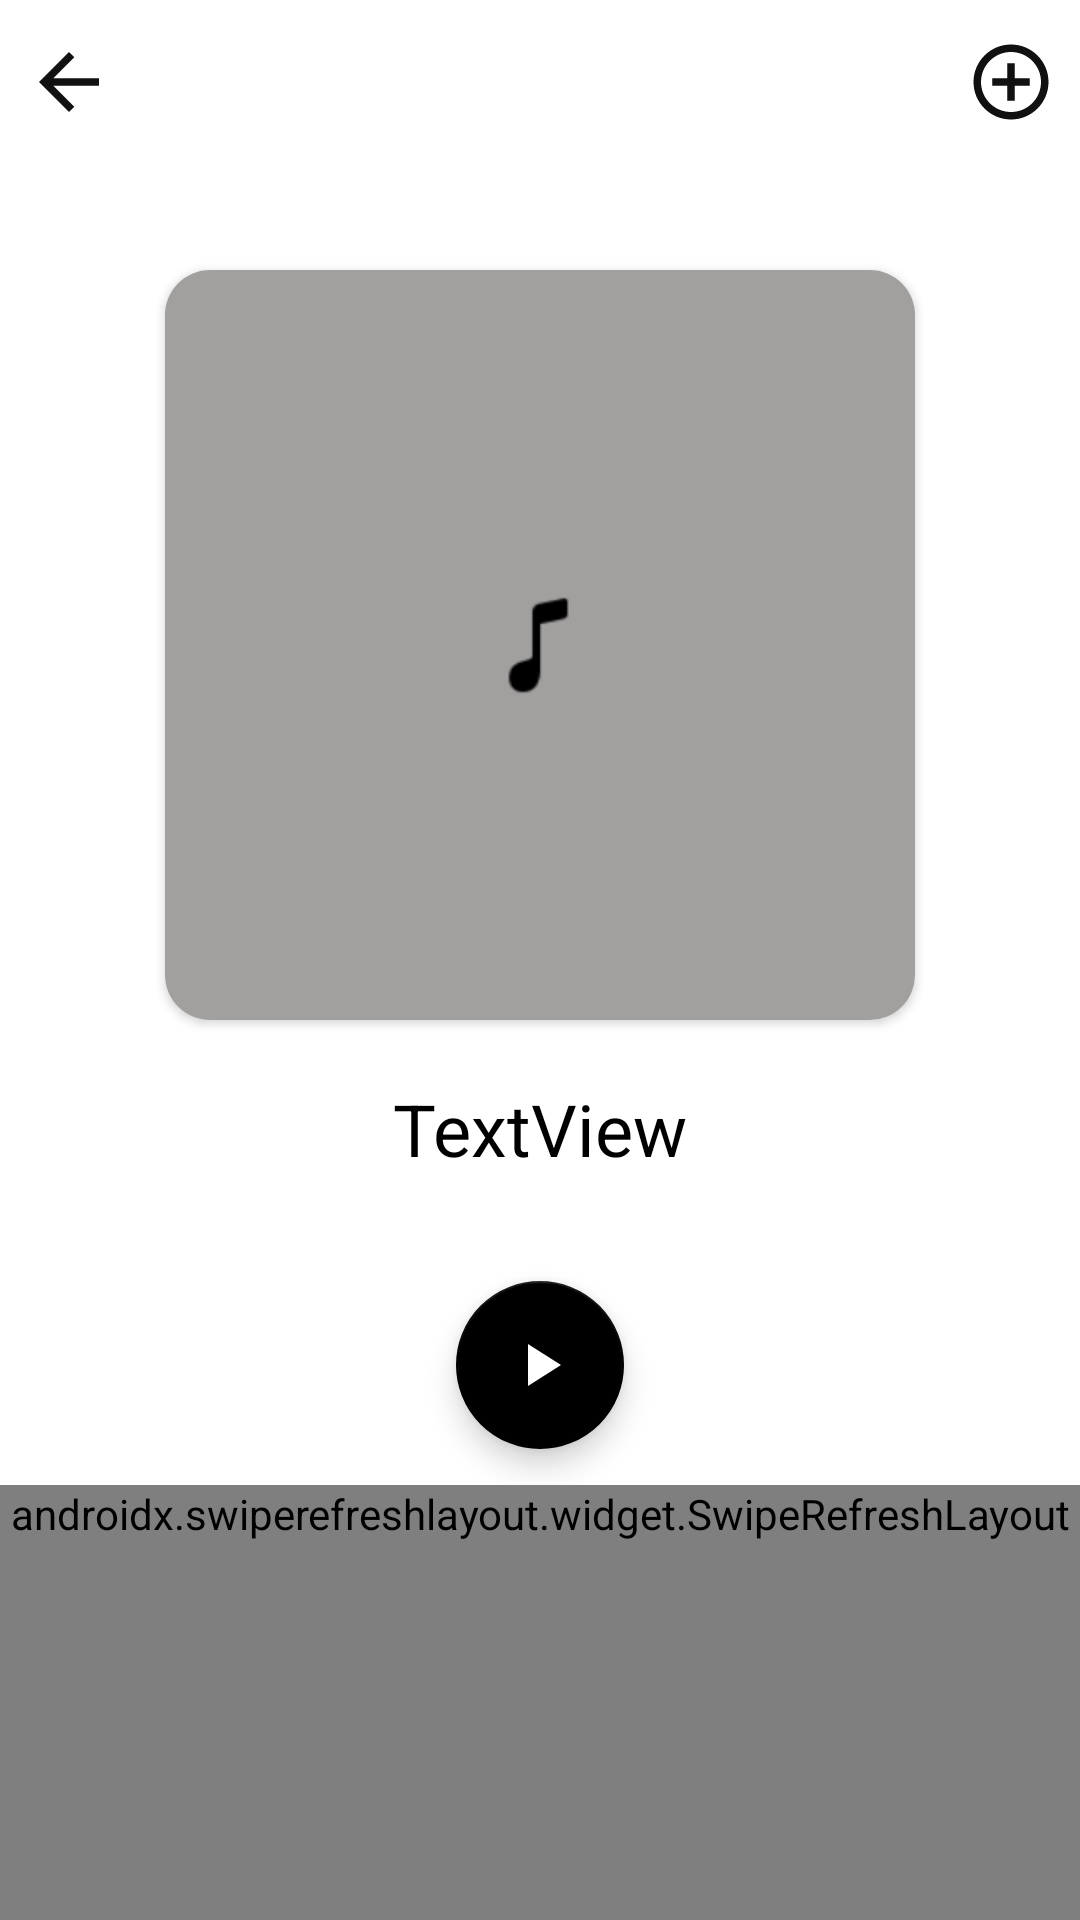

Icons on this 1080*1920 Android screen, each with its box as (x1, y1, x2, y2):
add circle: (973, 44, 1049, 120)
arrow back: (39, 52, 99, 112)
play: (456, 1281, 624, 1449)
